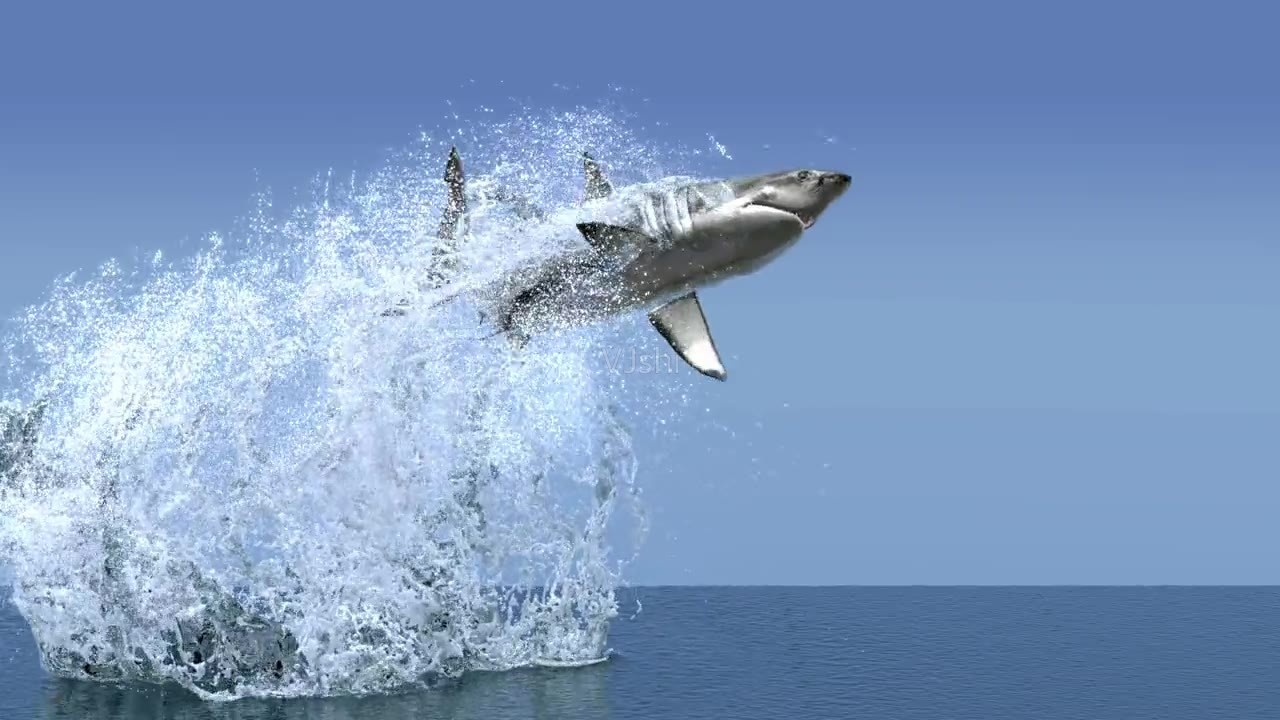fish: (340, 113, 852, 383)
